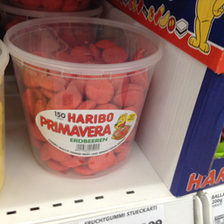candy: (4, 15, 164, 179)
